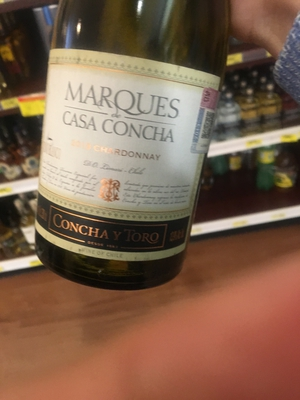marques de casa concha chardonnay: (25, 12, 232, 307)
